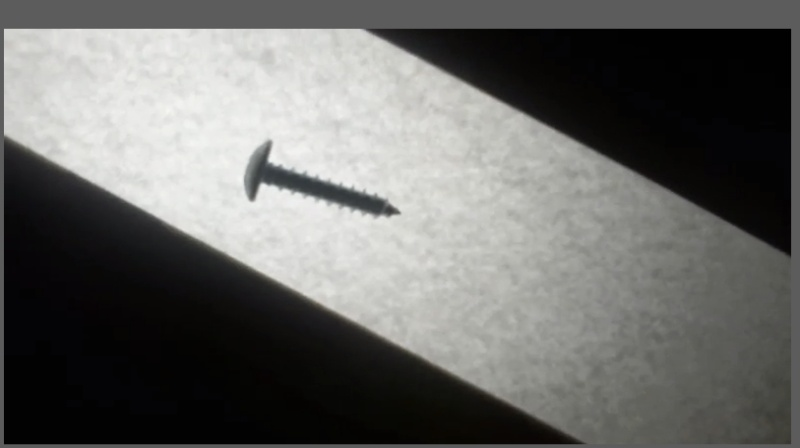S003: (239, 136, 407, 221)
